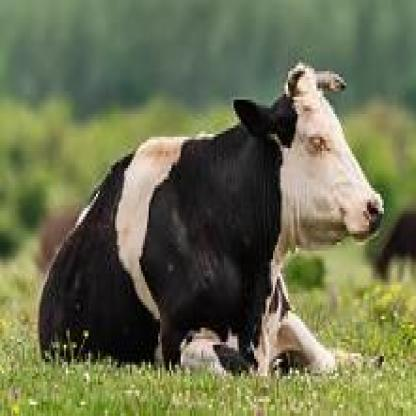cow: (37, 64, 383, 380)
